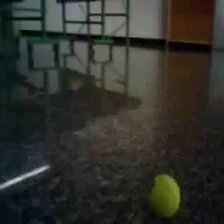tennis: (148, 174, 181, 218)
